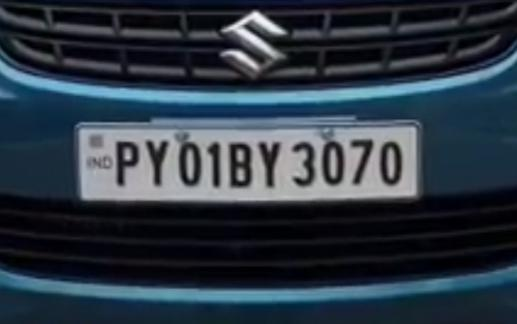0: (319, 141, 348, 191), (380, 138, 406, 190), (177, 138, 203, 189)
1: (203, 137, 224, 190)
3: (288, 139, 317, 193)
7: (347, 133, 375, 191)
B: (226, 137, 254, 190)
P: (112, 138, 144, 188)
Y: (141, 136, 172, 191), (255, 138, 284, 193)
